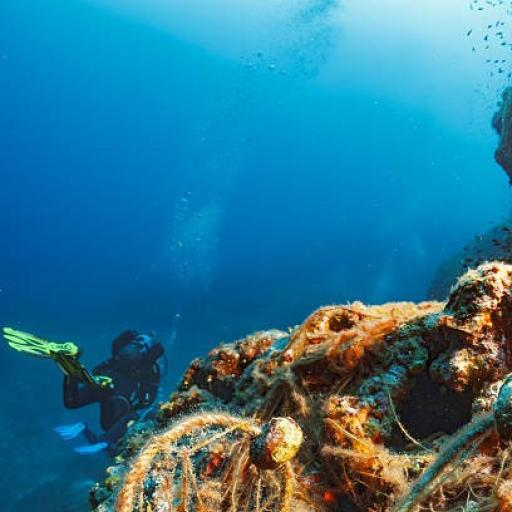net: (125, 376, 512, 512)
